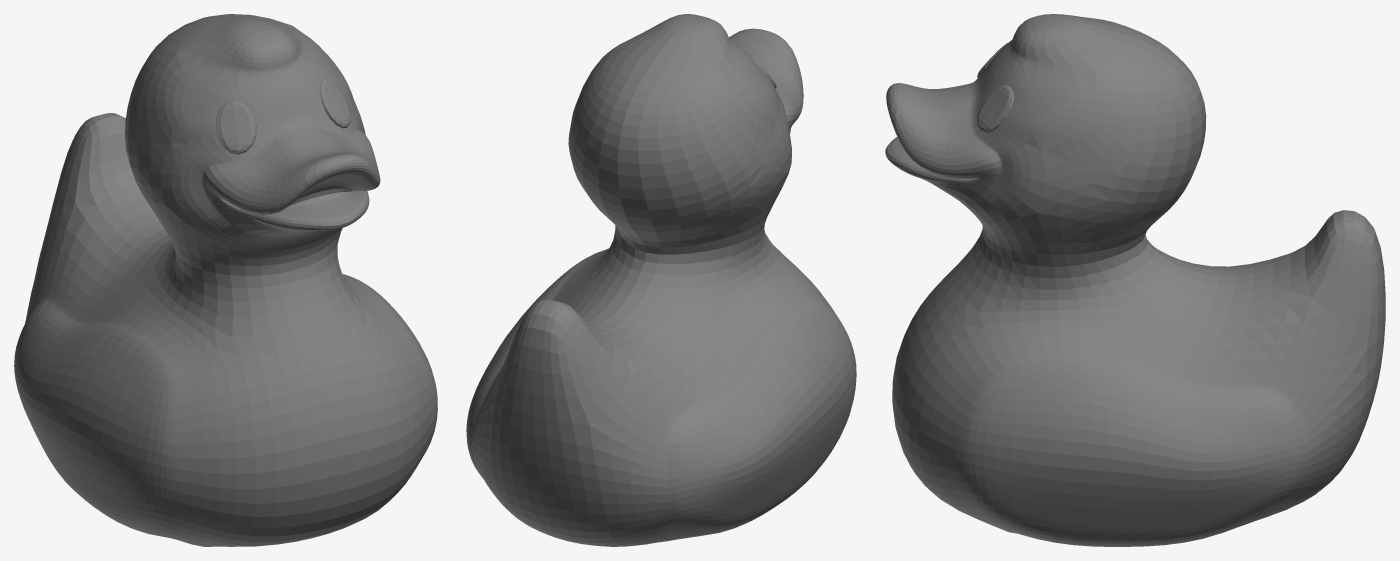
The model's file is Duck.glb.
3 views of the same model, side by side, from view 1: azimuth 30°, elevation 25°; view 2: azimuth 150°, elevation 25°; view 3: azimuth 270°, elevation 25° (orthographic). The views are drawn at different scales.
Bounding box in the file's own units: 0.3567 × 0.512 × 0.4869.
1 material, 1 textured.
